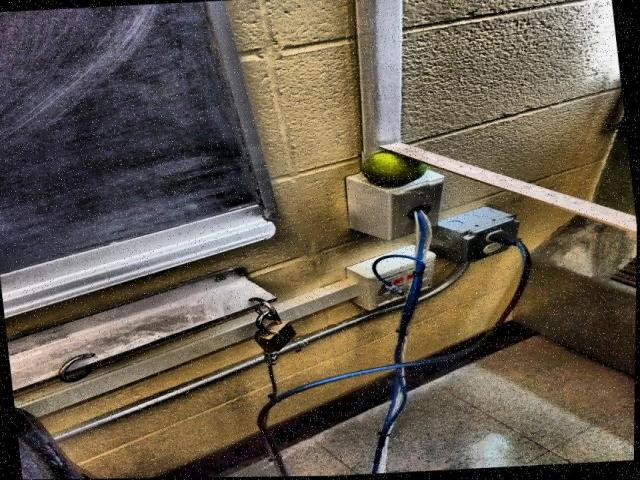tennis-ball: (361, 150, 428, 187)
